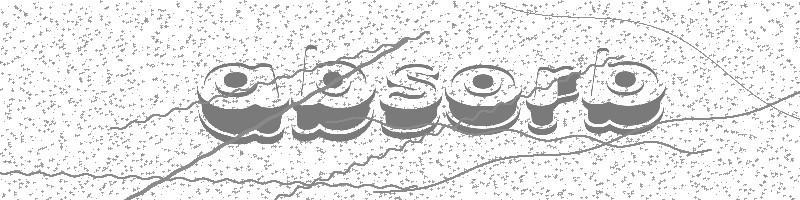a: (195, 60, 285, 146)
b: (290, 43, 377, 144), (581, 47, 666, 137)
o: (444, 63, 524, 137)
r: (525, 63, 581, 137)
s: (379, 61, 442, 142)
